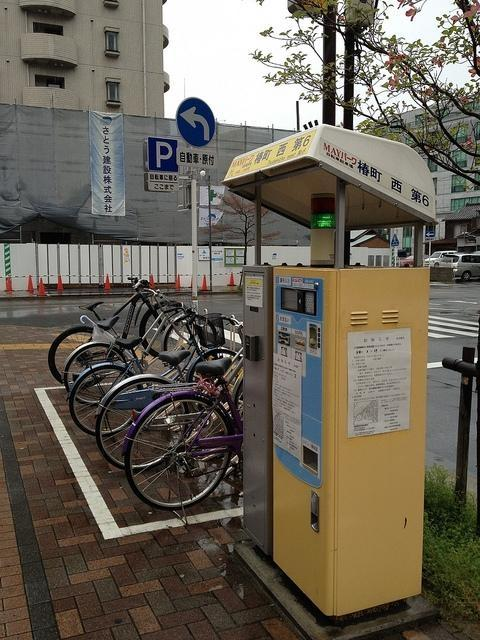bicycle: (124, 316, 247, 530), (70, 314, 244, 434), (46, 272, 182, 384), (62, 288, 195, 392), (87, 351, 192, 471)
car: (444, 253, 480, 282), (422, 251, 457, 268), (392, 255, 414, 268)
